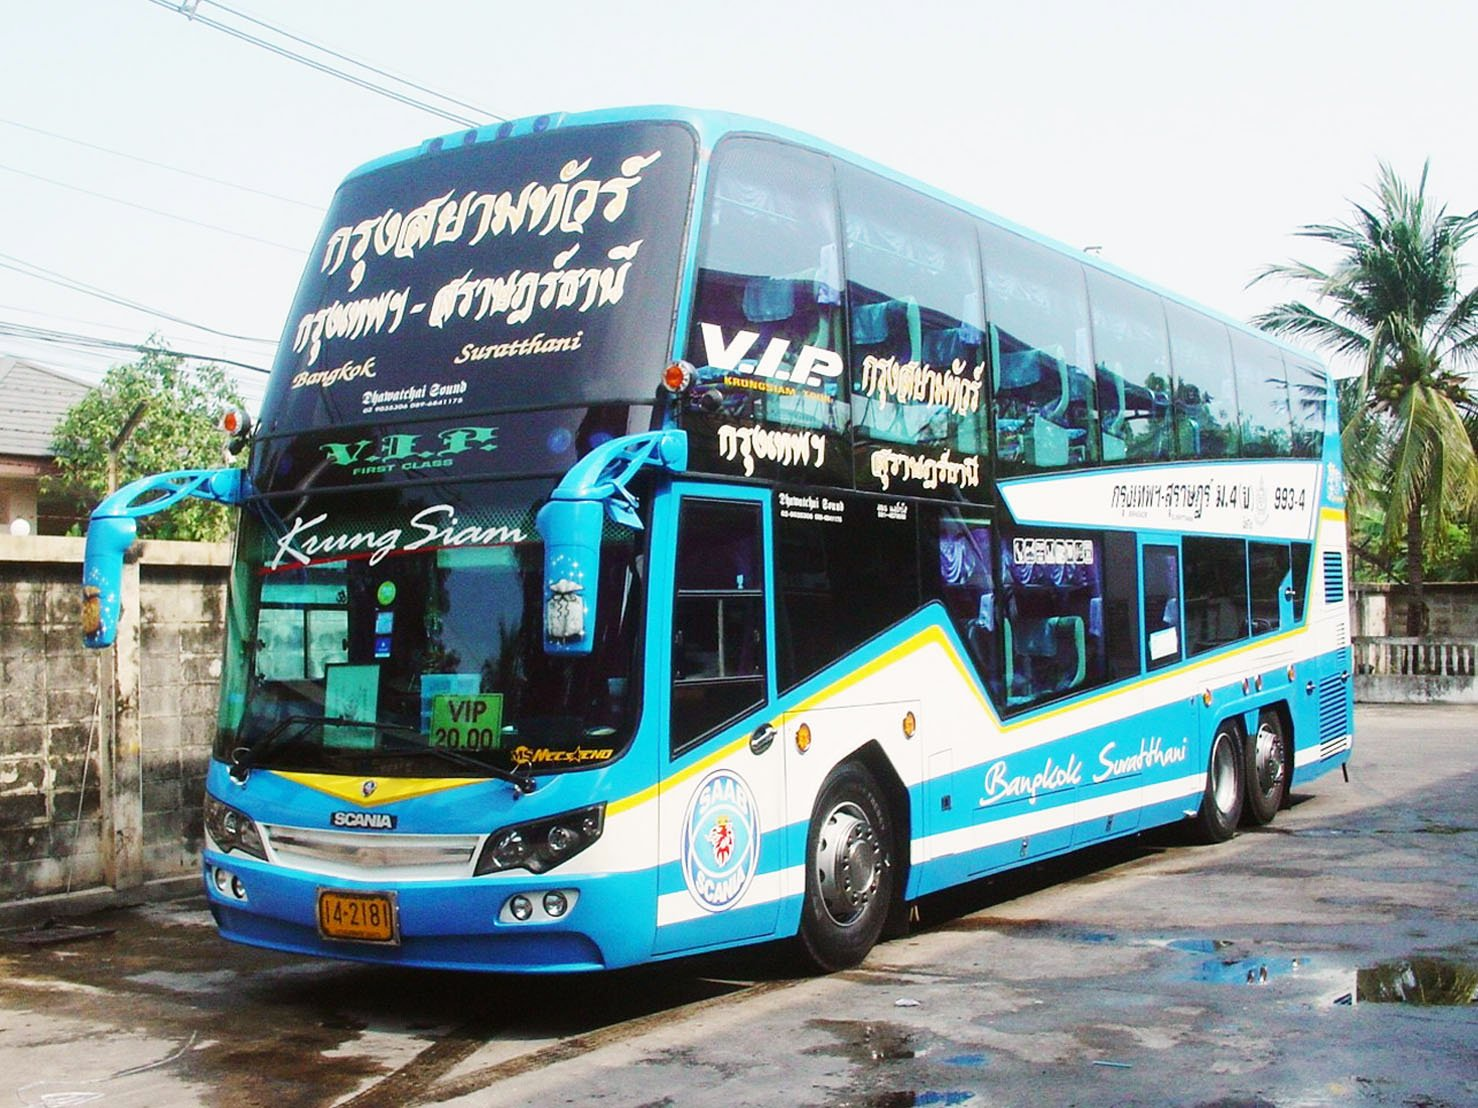bus: (200, 102, 1360, 978)
